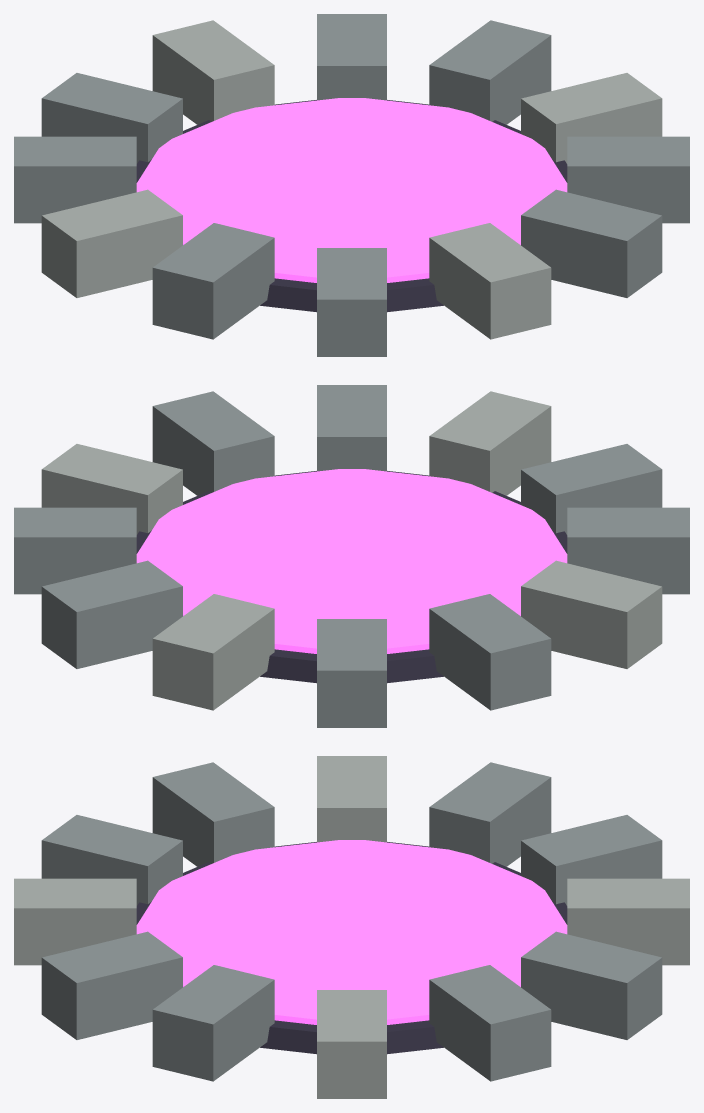
Rendered from wellspring_basin.glb.
The picture shows the model from 3 angles, top to bottom: view 1: azimuth 30°, elevation 25°; view 2: azimuth 150°, elevation 25°; view 3: azimuth 270°, elevation 25°; orthographic projection.
Parts seen in each view (by area): view 1: Wellspring_Basin_Liquid, Wellspring_Basin_Rim_7, Wellspring_Basin_Rim_11, Wellspring_Basin_Rim_8, Wellspring_Basin_Rim_10, Wellspring_Basin_Rim_2, Wellspring_Basin_Rim_4, Wellspring_Basin_Rim_6, Wellspring_Basin_Rim_12, Wellspring_Basin_Rim_1, Wellspring_Basin_Rim_5, Wellspring_Basin_Rim_9 (+2 smaller); view 2: Wellspring_Basin_Liquid, Wellspring_Basin_Rim_3, Wellspring_Basin_Rim_7, Wellspring_Basin_Rim_4, Wellspring_Basin_Rim_6, Wellspring_Basin_Rim_10, Wellspring_Basin_Rim_12, Wellspring_Basin_Rim_2, Wellspring_Basin_Rim_8, Wellspring_Basin_Rim_1, Wellspring_Basin_Rim_9, Wellspring_Basin_Rim_5 (+2 smaller); view 3: Wellspring_Basin_Liquid, Wellspring_Basin_Rim_3, Wellspring_Basin_Rim_11, Wellspring_Basin_Rim_2, Wellspring_Basin_Rim_12, Wellspring_Basin_Rim_6, Wellspring_Basin_Rim_8, Wellspring_Basin_Rim_4, Wellspring_Basin_Rim_10, Wellspring_Basin_Rim_5, Wellspring_Basin_Rim_9, Wellspring_Basin_Rim_1 (+2 smaller).
Boxes of the visible parts, box(x1,y1,x2,y2) form: Wellspring_Basin_Liquid: box(136, 98, 567, 282); Wellspring_Basin_Rim_7: box(41, 189, 182, 297); Wellspring_Basin_Rim_11: box(521, 189, 662, 297); Wellspring_Basin_Rim_8: box(152, 223, 274, 339); Wellspring_Basin_Rim_10: box(429, 223, 551, 339); Wellspring_Basin_Rim_2: box(429, 20, 551, 124); Wellspring_Basin_Rim_4: box(152, 20, 274, 124); Wellspring_Basin_Rim_6: box(14, 136, 136, 223); Wellspring_Basin_Rim_12: box(567, 136, 689, 223); Wellspring_Basin_Rim_1: box(521, 73, 662, 163); Wellspring_Basin_Rim_5: box(41, 73, 182, 163); Wellspring_Basin_Rim_9: box(317, 248, 386, 356); Wellspring_Basin_Liquid: box(136, 469, 567, 653); Wellspring_Basin_Rim_3: box(41, 560, 182, 668); Wellspring_Basin_Rim_7: box(521, 560, 662, 668); Wellspring_Basin_Rim_4: box(152, 594, 274, 710); Wellspring_Basin_Rim_6: box(429, 594, 551, 710); Wellspring_Basin_Rim_10: box(429, 391, 551, 495); Wellspring_Basin_Rim_12: box(152, 391, 274, 495); Wellspring_Basin_Rim_2: box(14, 507, 136, 594); Wellspring_Basin_Rim_8: box(567, 507, 689, 594); Wellspring_Basin_Rim_1: box(41, 444, 182, 534); Wellspring_Basin_Rim_9: box(521, 444, 662, 534); Wellspring_Basin_Rim_5: box(317, 619, 386, 727); Wellspring_Basin_Liquid: box(136, 840, 567, 1024); Wellspring_Basin_Rim_3: box(521, 931, 662, 1039); Wellspring_Basin_Rim_11: box(41, 931, 182, 1039); Wellspring_Basin_Rim_2: box(429, 965, 551, 1081); Wellspring_Basin_Rim_12: box(152, 965, 274, 1081); Wellspring_Basin_Rim_6: box(429, 762, 551, 866); Wellspring_Basin_Rim_8: box(152, 762, 274, 866); Wellspring_Basin_Rim_4: box(567, 878, 689, 965); Wellspring_Basin_Rim_10: box(14, 878, 136, 965); Wellspring_Basin_Rim_5: box(521, 815, 662, 905); Wellspring_Basin_Rim_9: box(41, 815, 182, 905); Wellspring_Basin_Rim_1: box(317, 990, 386, 1098).
Bounding box in the file's own units: 3.86 × 0.395 × 3.86.
